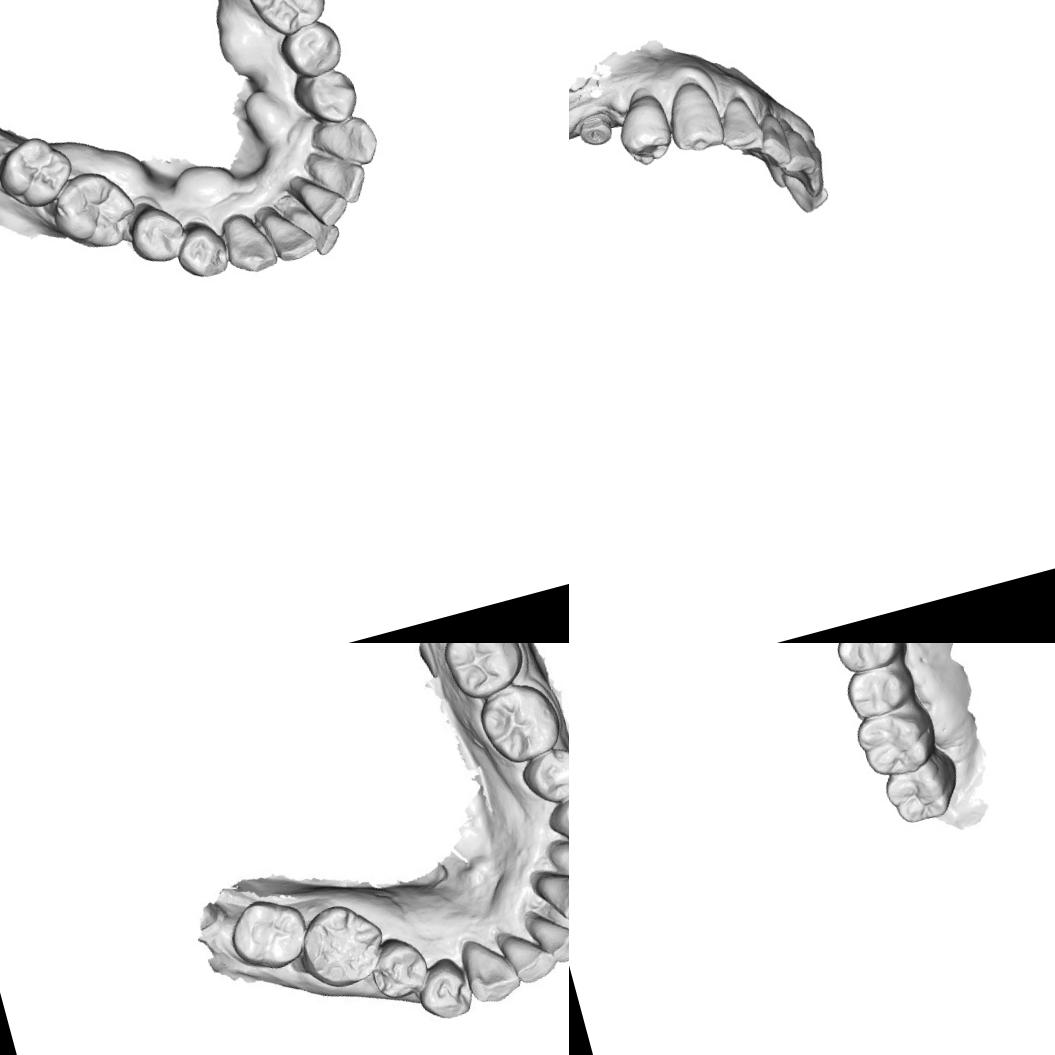canine: (657, 74, 730, 160), (454, 929, 526, 1010), (308, 106, 384, 178), (215, 207, 282, 279), (547, 828, 569, 903)
implant_minus: (572, 108, 616, 154)
incisor: (306, 144, 373, 214), (258, 198, 322, 268), (497, 918, 558, 989), (708, 92, 768, 157), (293, 171, 353, 234), (286, 198, 344, 262), (525, 904, 569, 969), (750, 114, 796, 172), (529, 864, 569, 927), (775, 123, 818, 180)
molar: (291, 892, 393, 997), (42, 160, 144, 260), (471, 678, 566, 770), (221, 888, 317, 978), (850, 700, 942, 783), (877, 747, 967, 830), (0, 126, 81, 215), (433, 643, 530, 704), (237, 0, 331, 45)
premolar: (284, 56, 368, 134), (270, 12, 350, 86), (610, 88, 678, 170), (838, 656, 920, 723), (408, 952, 480, 1028), (121, 198, 192, 272), (365, 931, 434, 1006), (169, 217, 234, 286), (515, 743, 569, 812), (828, 643, 909, 679), (544, 785, 569, 853)
